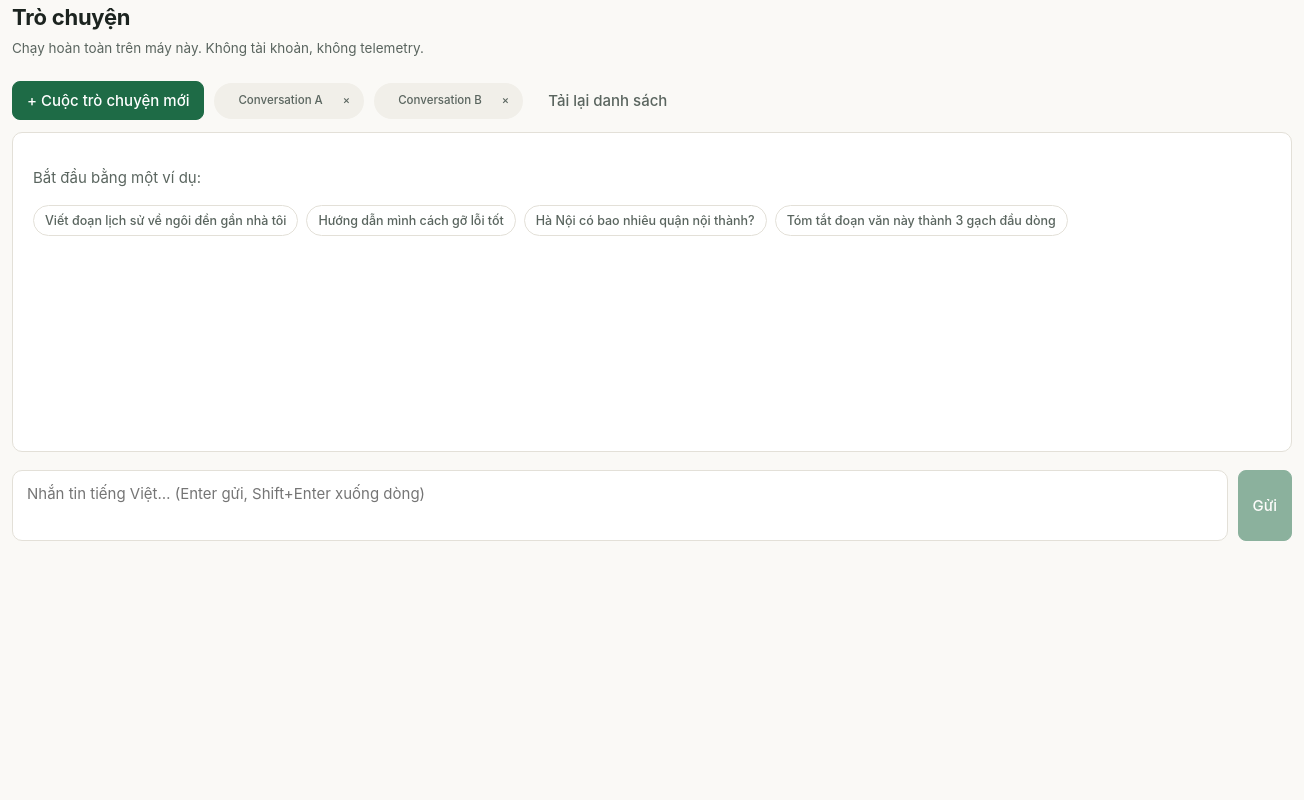
Test case: does not discard an entered draft when submitting an example
Type "Keep this draft" into the text box named "Tin nhắn" at (620, 506), box x1=12 y1=470 x2=1228 y2=541
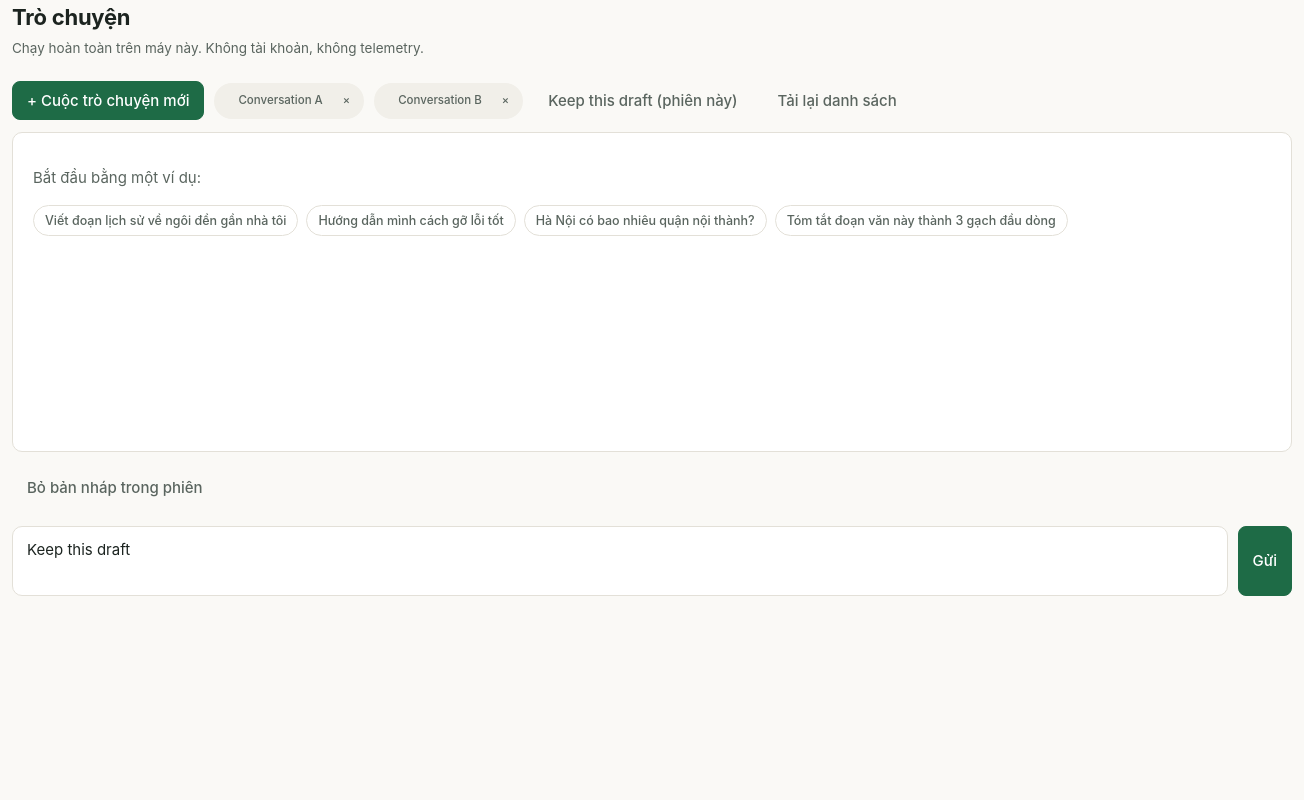
Click the button "Hướng dẫn mình cách gỡ lỗi tốt" at (411, 220), box x1=306 y1=204 x2=516 y2=236
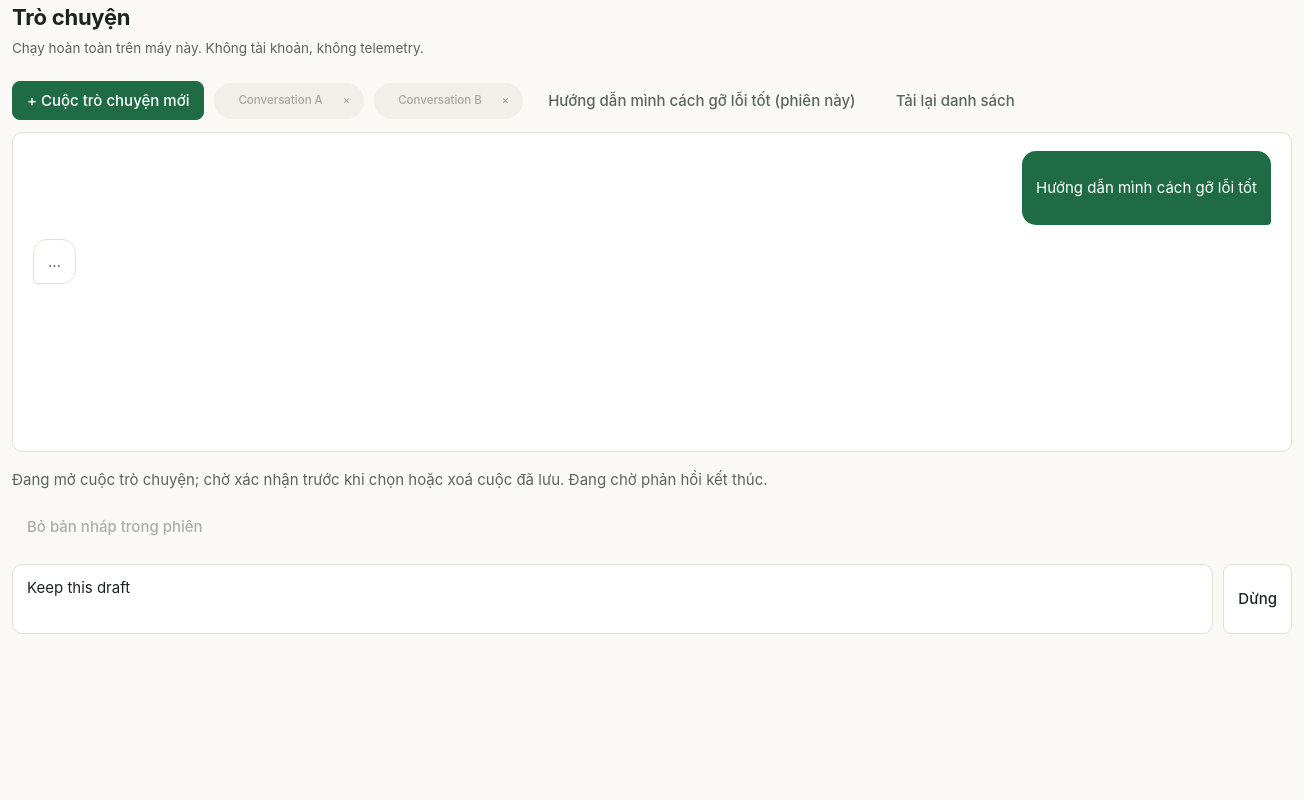
Check: the text "Hướng dẫn mình cách gỡ lỗi tốt" is shown, box x1=1036 y1=176 x2=1257 y2=200
